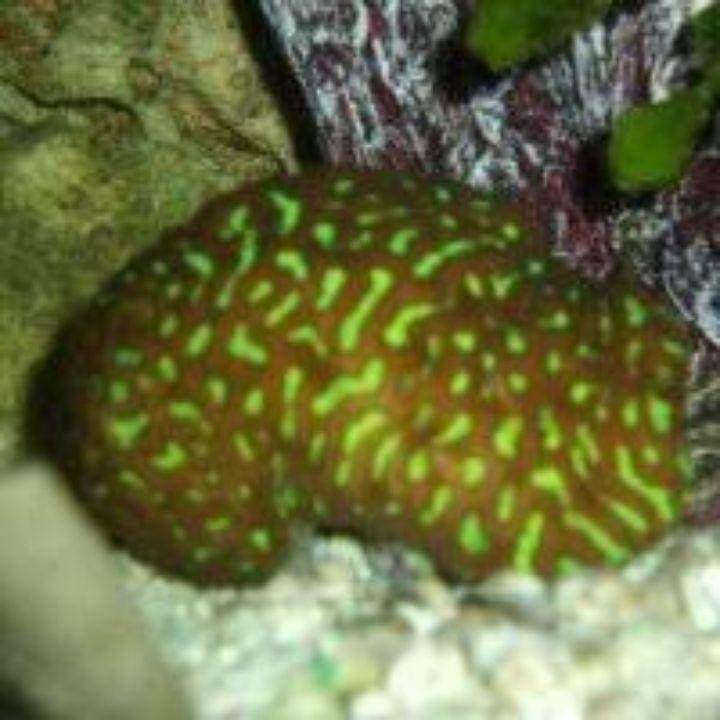Healthy Coral: (44, 160, 701, 591)
